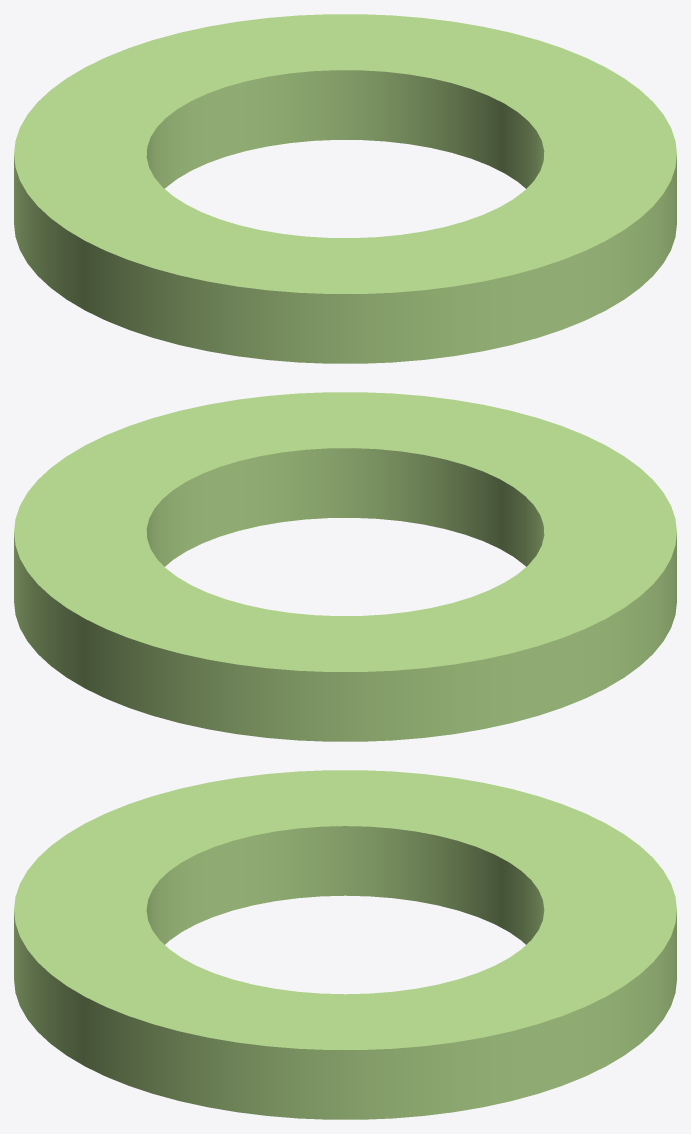
The model's file is Main_ExtraPart1.dae.
3 views of the same model, one above another, from view 1: azimuth 30°, elevation 25°; view 2: azimuth 150°, elevation 25°; view 3: azimuth 270°, elevation 25° (orthographic).
Parts seen in each view (by area): view 1: Main_ExtraPart1; view 2: Main_ExtraPart1; view 3: Main_ExtraPart1.
Part boxes in pixels (x1,y1,x2,y2): Main_ExtraPart1: (14, 14, 676, 363); Main_ExtraPart1: (14, 392, 676, 741); Main_ExtraPart1: (14, 770, 676, 1119).
Size of the model in its own units: 0.0499 by 0.05 by 0.0058.
